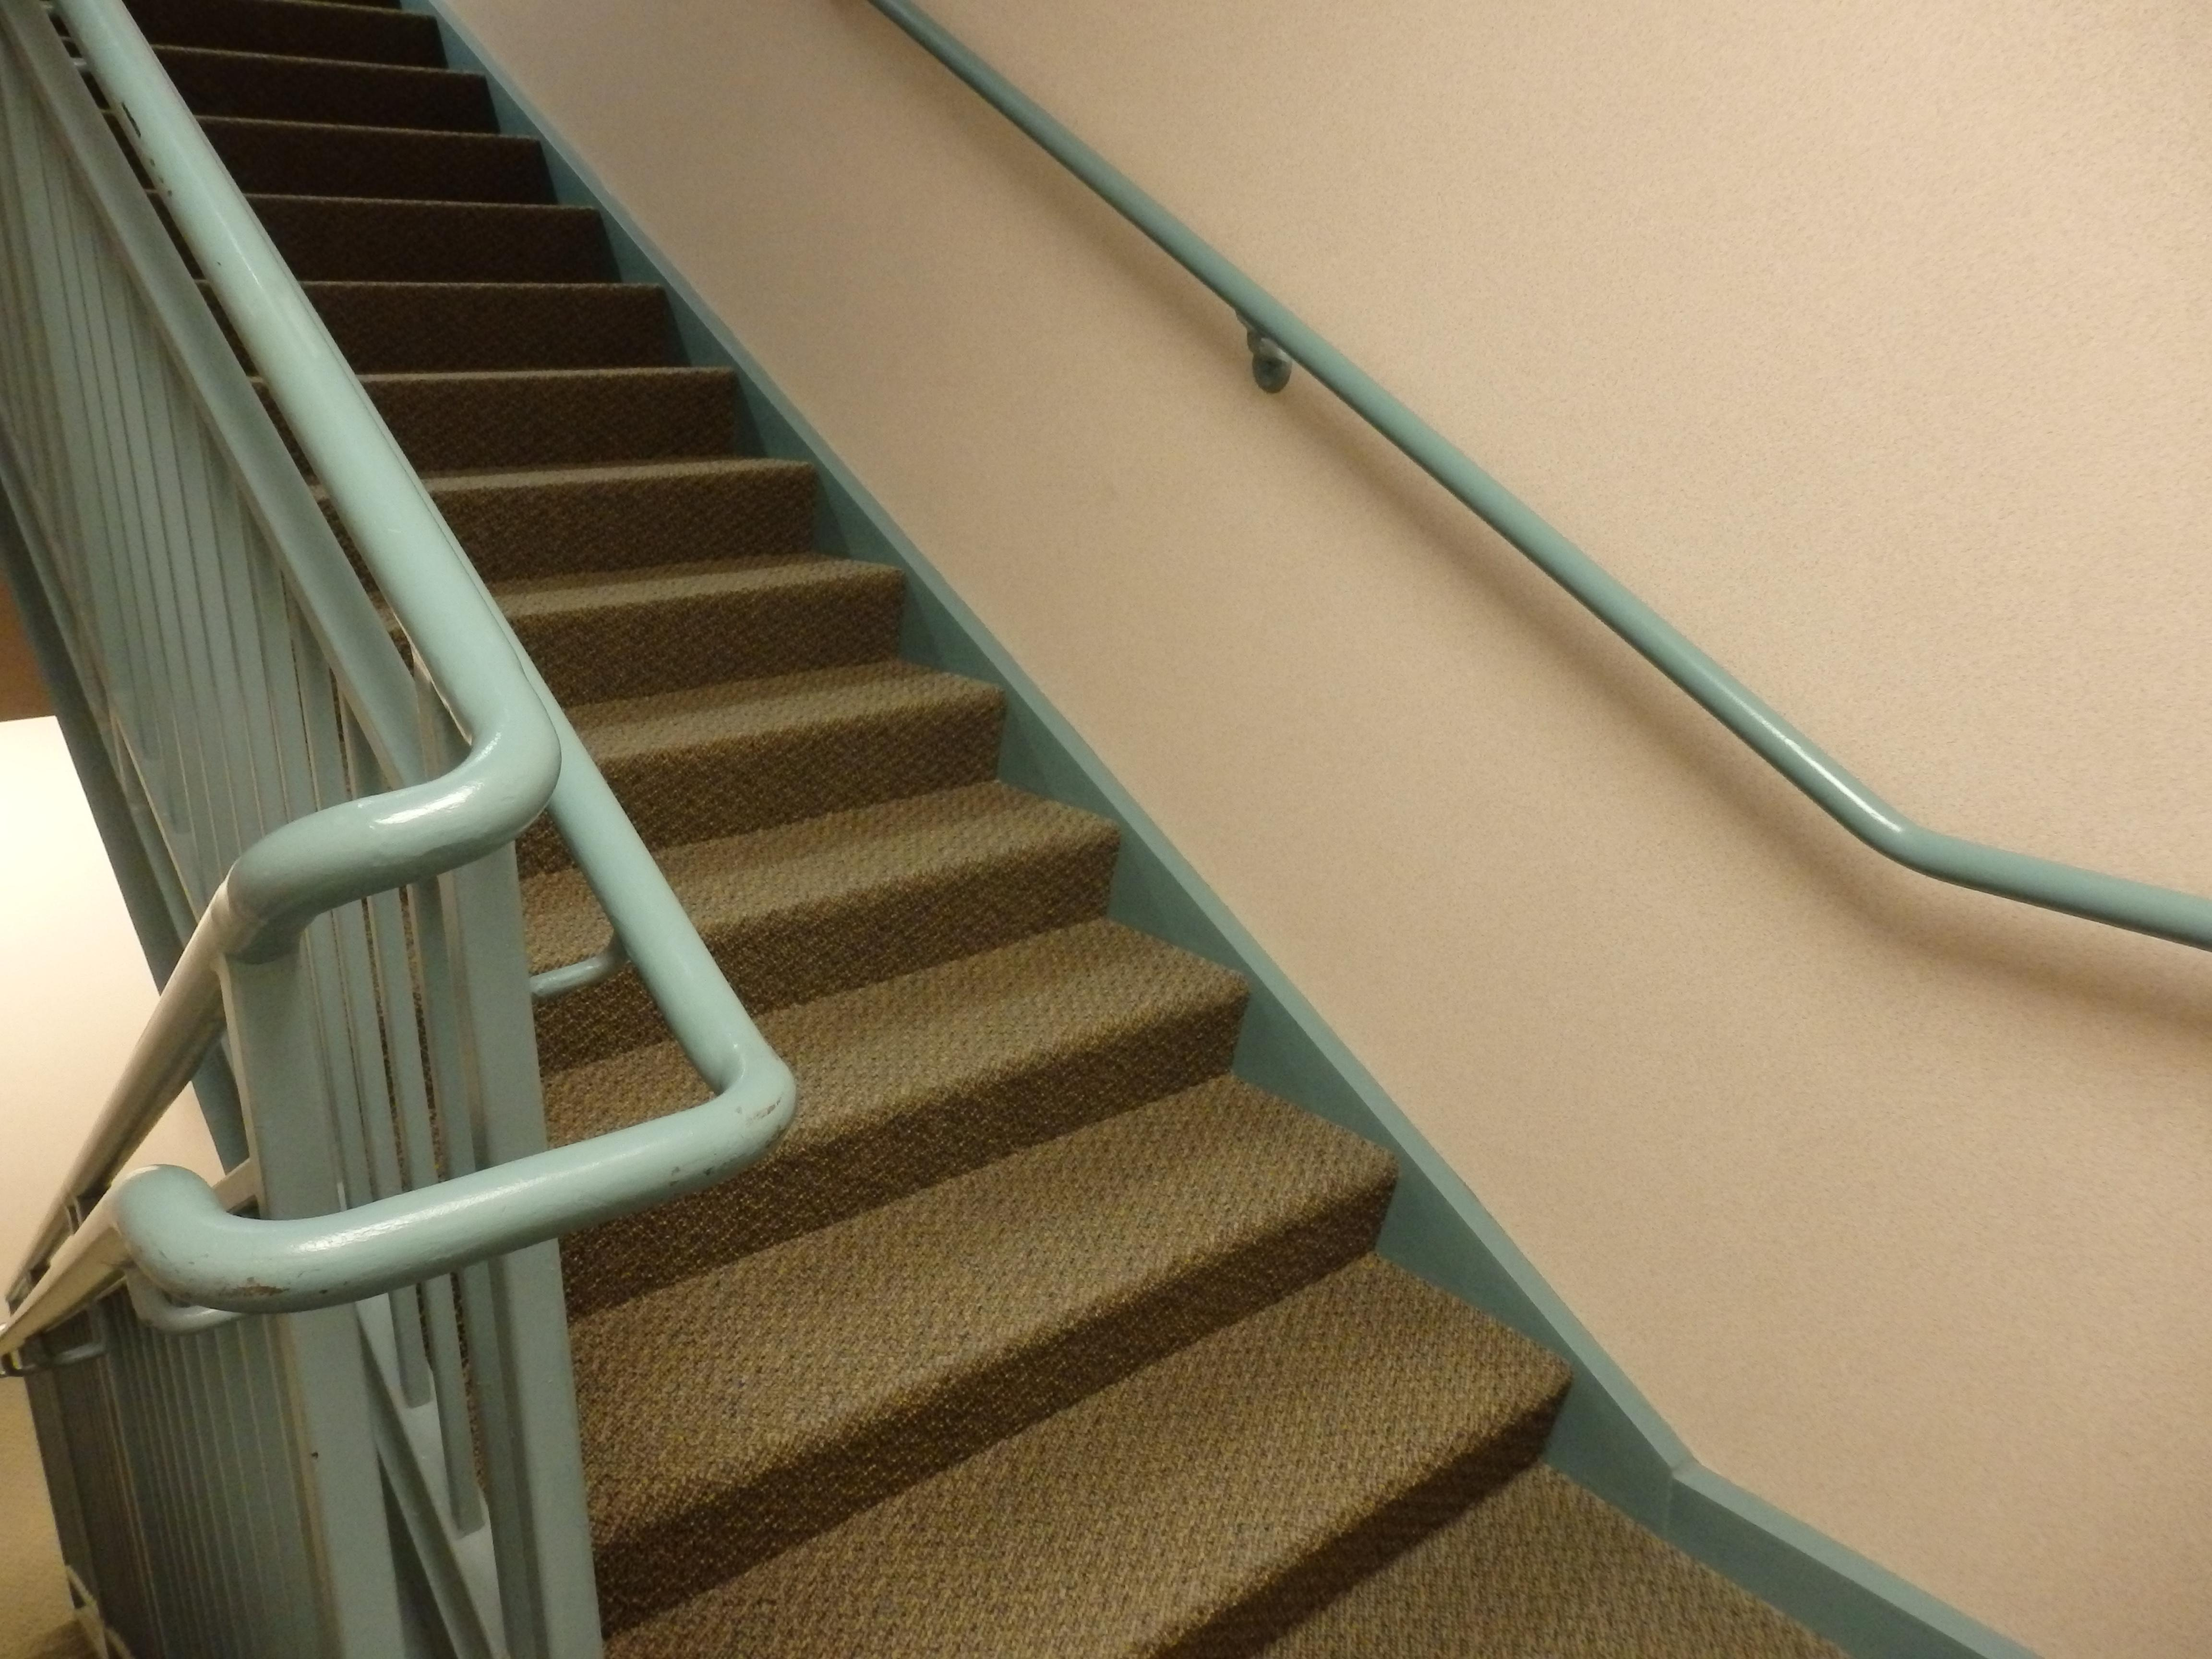stairs_up: (219, 159, 1428, 1603)
